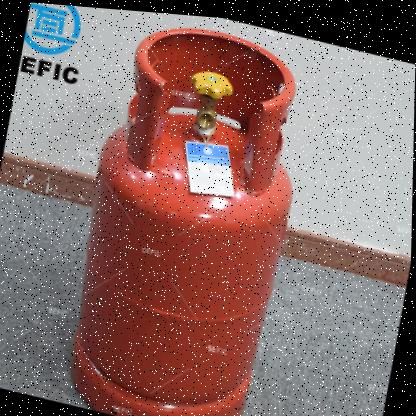gas-tank: (47, 3, 328, 415)
